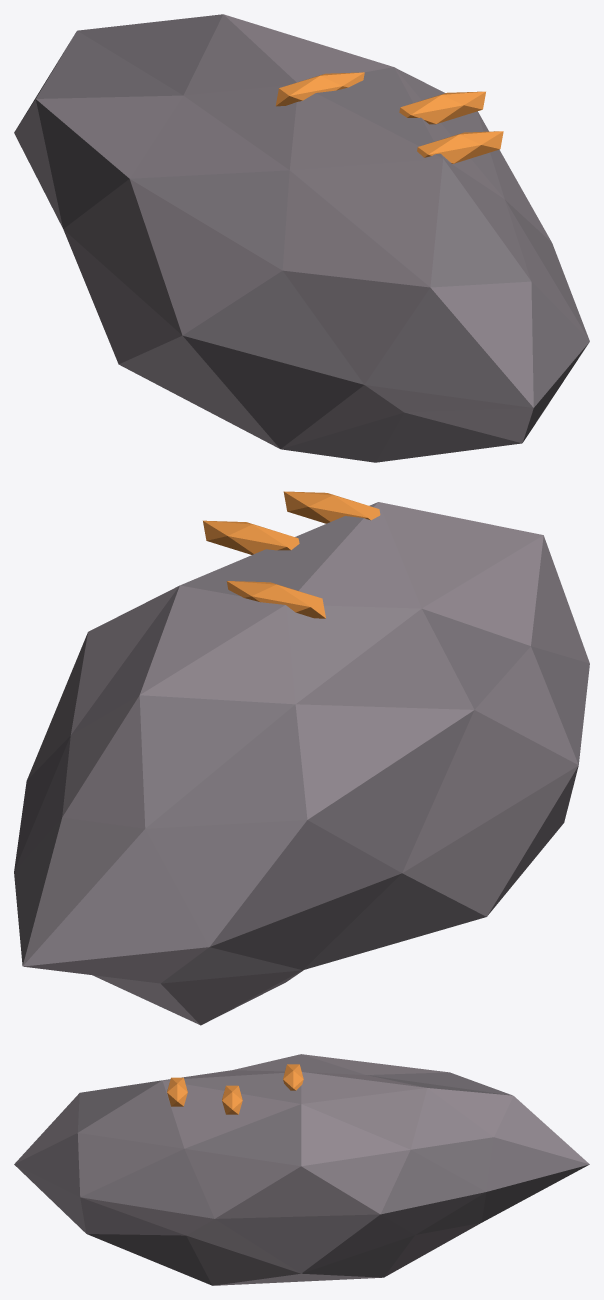
The model's file is asteroid_b.glb.
3 renders of one model, top to bottom at view 1: azimuth 30°, elevation 25°; view 2: azimuth 150°, elevation 25°; view 3: azimuth 270°, elevation 25°, orthographic. The views are drawn at different scales.
Parts seen in each view (by area): view 1: Elongated iron rock, Copper seam.002, Copper seam.001, Copper seam; view 2: Elongated iron rock, Copper seam.002, Copper seam.001, Copper seam; view 3: Elongated iron rock, Copper seam.001, Copper seam.002, Copper seam.
Boxes of the visible parts, x1,y1,x2,y2 form: Elongated iron rock: (14, 14, 589, 462); Copper seam.002: (399, 91, 485, 124); Copper seam.001: (417, 131, 503, 163); Copper seam: (275, 72, 364, 106); Elongated iron rock: (14, 502, 589, 1025); Copper seam.002: (203, 520, 299, 554); Copper seam.001: (283, 491, 380, 523); Copper seam: (226, 581, 325, 618); Elongated iron rock: (14, 1054, 589, 1285); Copper seam.001: (167, 1077, 187, 1106); Copper seam.002: (222, 1085, 242, 1114); Copper seam: (283, 1064, 303, 1090).
Bounding box in the file's own units: 1.72 × 1.53 × 3.77.
